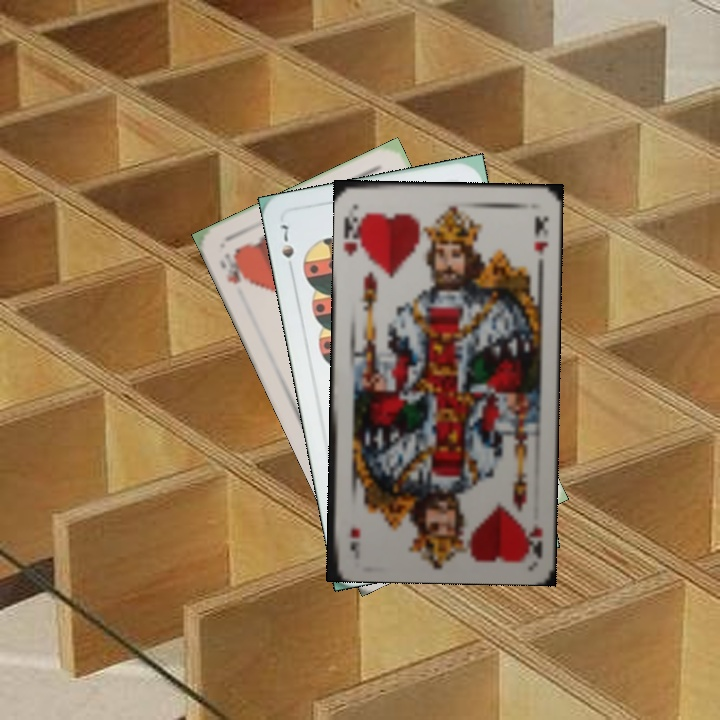HK: (340, 209, 368, 259), (520, 519, 546, 559)
HO: (215, 245, 250, 287)
S7: (275, 220, 297, 261)
